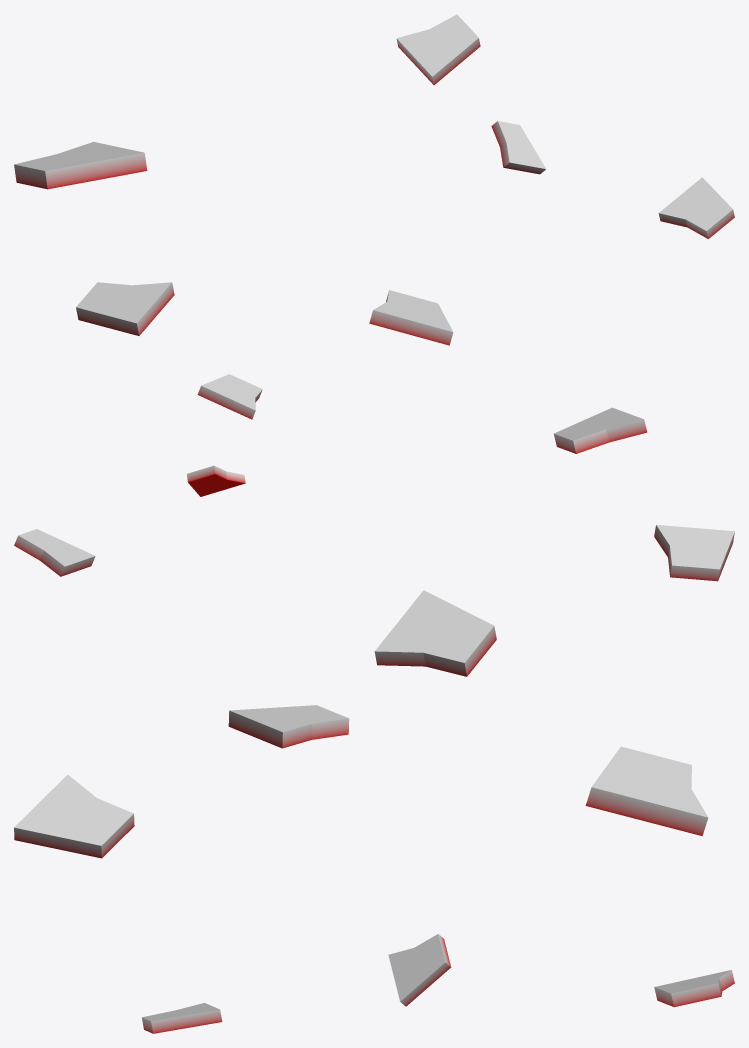
The picture shows the model from 3 angles, top to bottom: view 1: azimuth 30°, elevation 25°; view 2: azimuth 150°, elevation 25°; view 3: azimuth 270°, elevation 25°; orthographic projection. The views are drawn at different scales.
Visible parts, largest first — view 1: suipian001; view 2: suipian001; view 3: suipian001.
Boxes of the visible parts, x1=… form: suipian001: x1=14, y1=14, x2=734, y2=345; suipian001: x1=14, y1=374, x2=734, y2=676; suipian001: x1=14, y1=705, x2=734, y2=1033.
Size of the model in its own units: 256 by 238 by 22.51.
